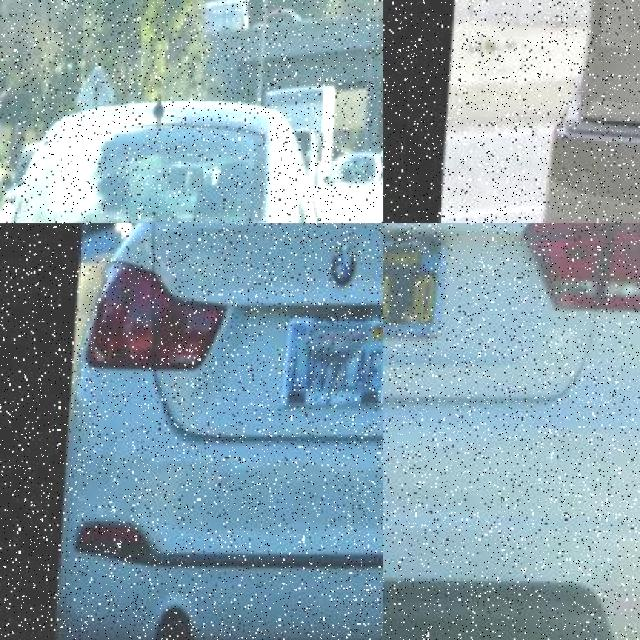licenseplate: (279, 312, 383, 428), (383, 223, 445, 349)
